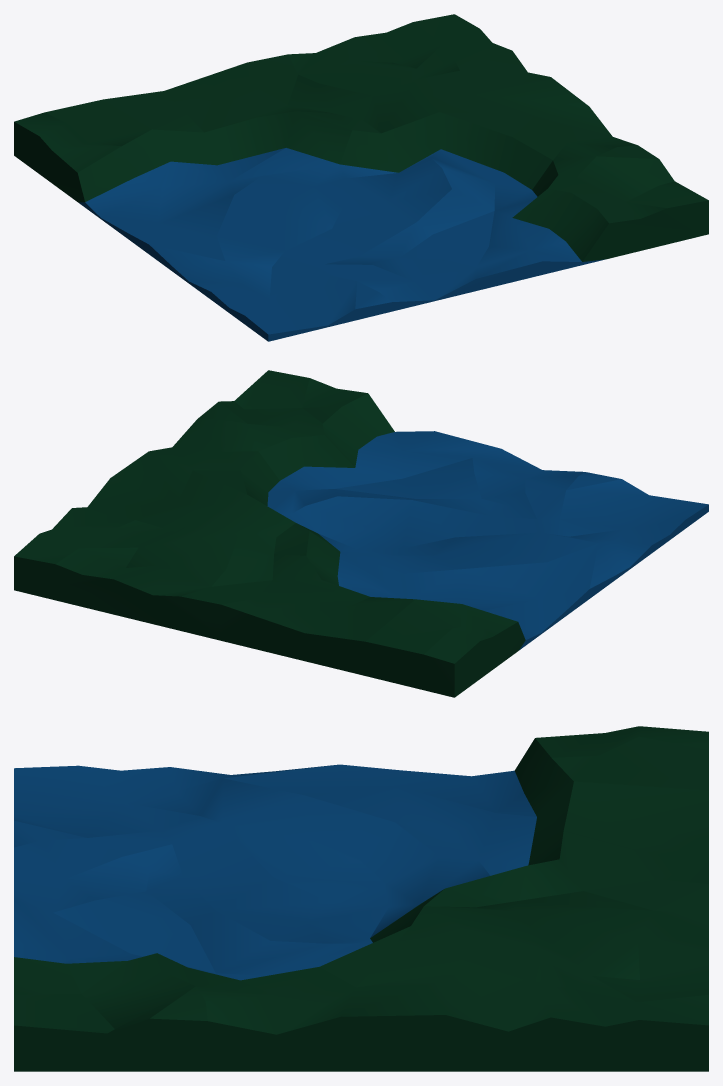
File: Water_Round_RU.fbx
3 views of the same model, one above another, from view 1: azimuth 30°, elevation 25°; view 2: azimuth 150°, elevation 25°; view 3: azimuth 270°, elevation 25° (orthographic). The views are drawn at different scales.
Parts seen in each view (by area): view 1: Water_Round_RU; view 2: Water_Round_RU; view 3: Water_Round_RU.
Boxes of the visible parts, box(x1,y1,x2,y2) form: Water_Round_RU: box(14, 14, 708, 341); Water_Round_RU: box(14, 370, 708, 697); Water_Round_RU: box(14, 726, 708, 1071).
Bounding box in the file's own units: 147 × 15.12 × 147.
